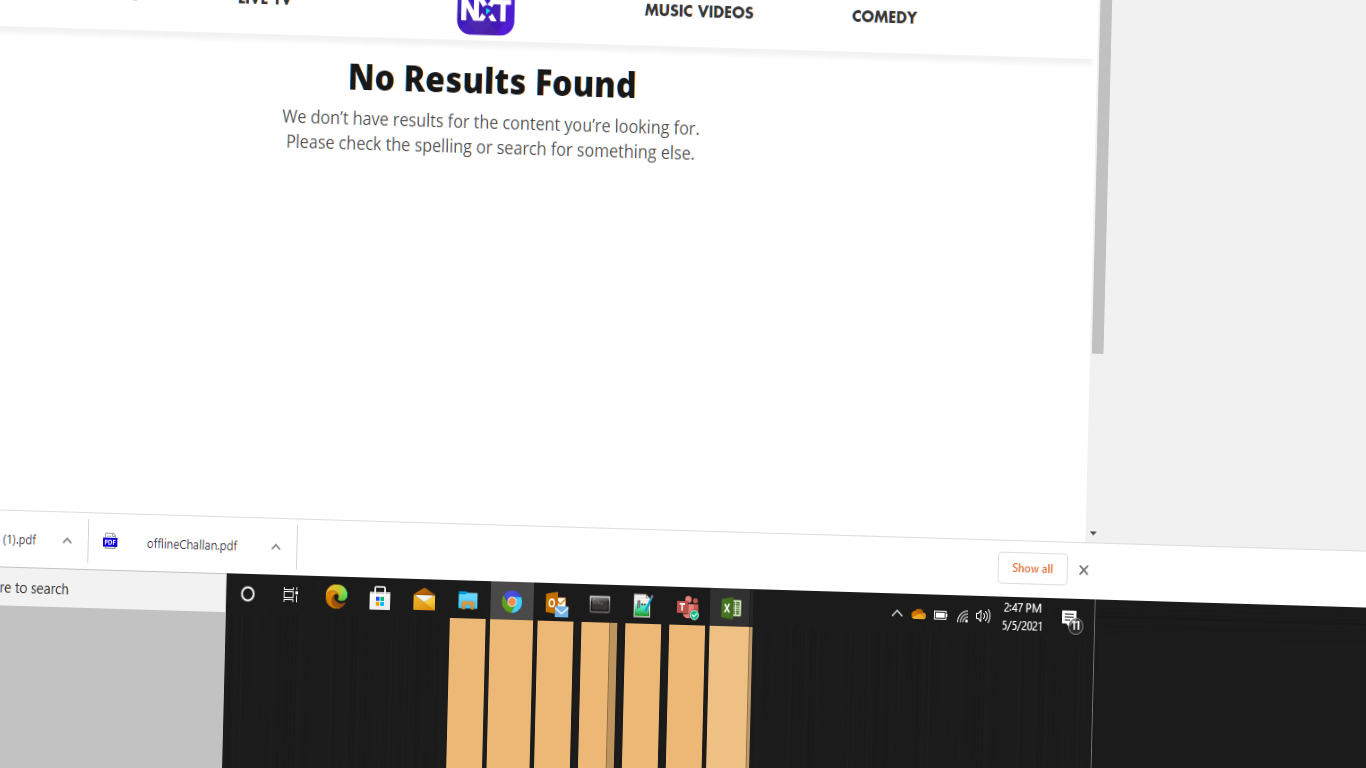noresultsfound: (275, 46, 653, 109)
